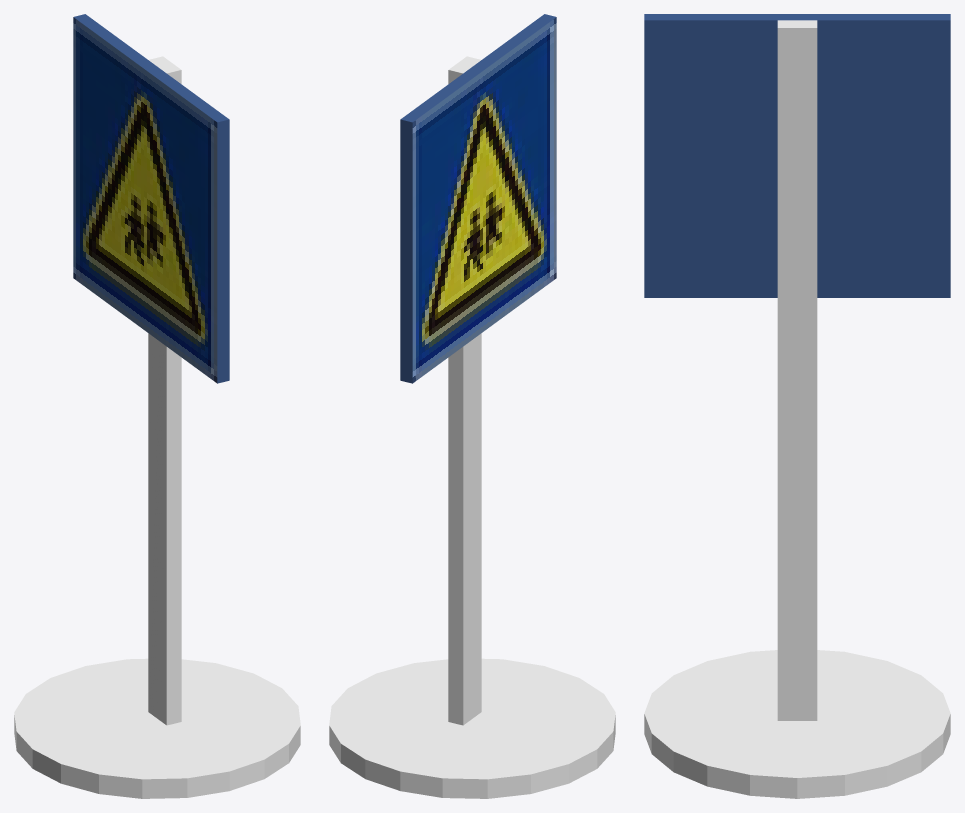
File: SignChildren.dae
3 renders of one model, left to right at view 1: azimuth 30°, elevation 25°; view 2: azimuth 150°, elevation 25°; view 3: azimuth 270°, elevation 25°, orthographic. The views are drawn at different scales.
Visible parts, largest first — view 1: SignChildren.001; view 2: SignChildren.001; view 3: SignChildren.001.
Boxes of the visible parts, left/top/right/bottom form: SignChildren.001: left=14, top=14, right=300, bottom=798; SignChildren.001: left=329, top=14, right=615, bottom=798; SignChildren.001: left=644, top=14, right=950, bottom=798.
Size of the model in its own units: 0.07 by 0.07 by 0.18.
